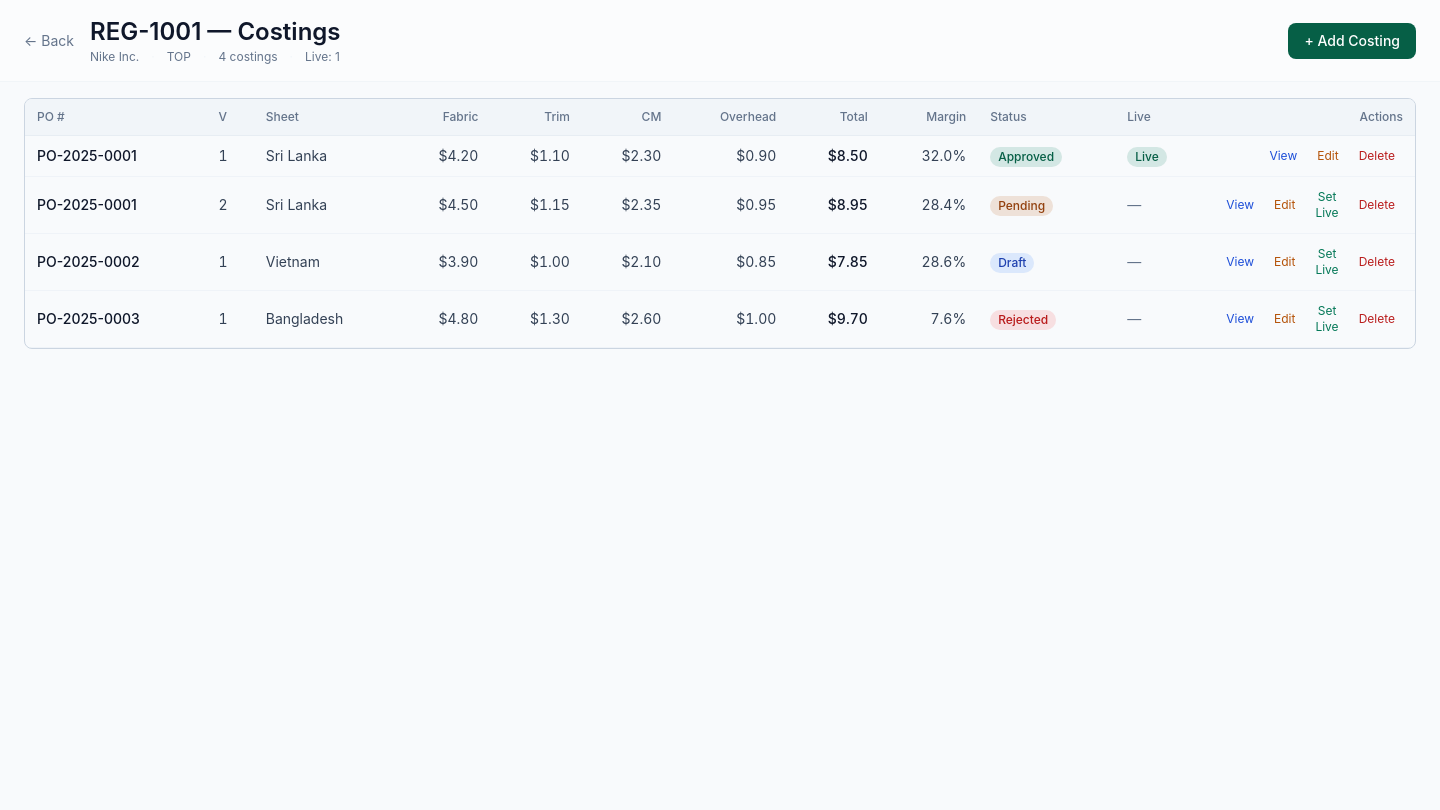
DesignCostingsPage › deletes a costing after confirmation
Check: the text "4 costings" is shown, box [218,49,278,65]
Click the button "Delete" in the row of "$4.20" at [1377, 156], box [1351,144,1403,168]
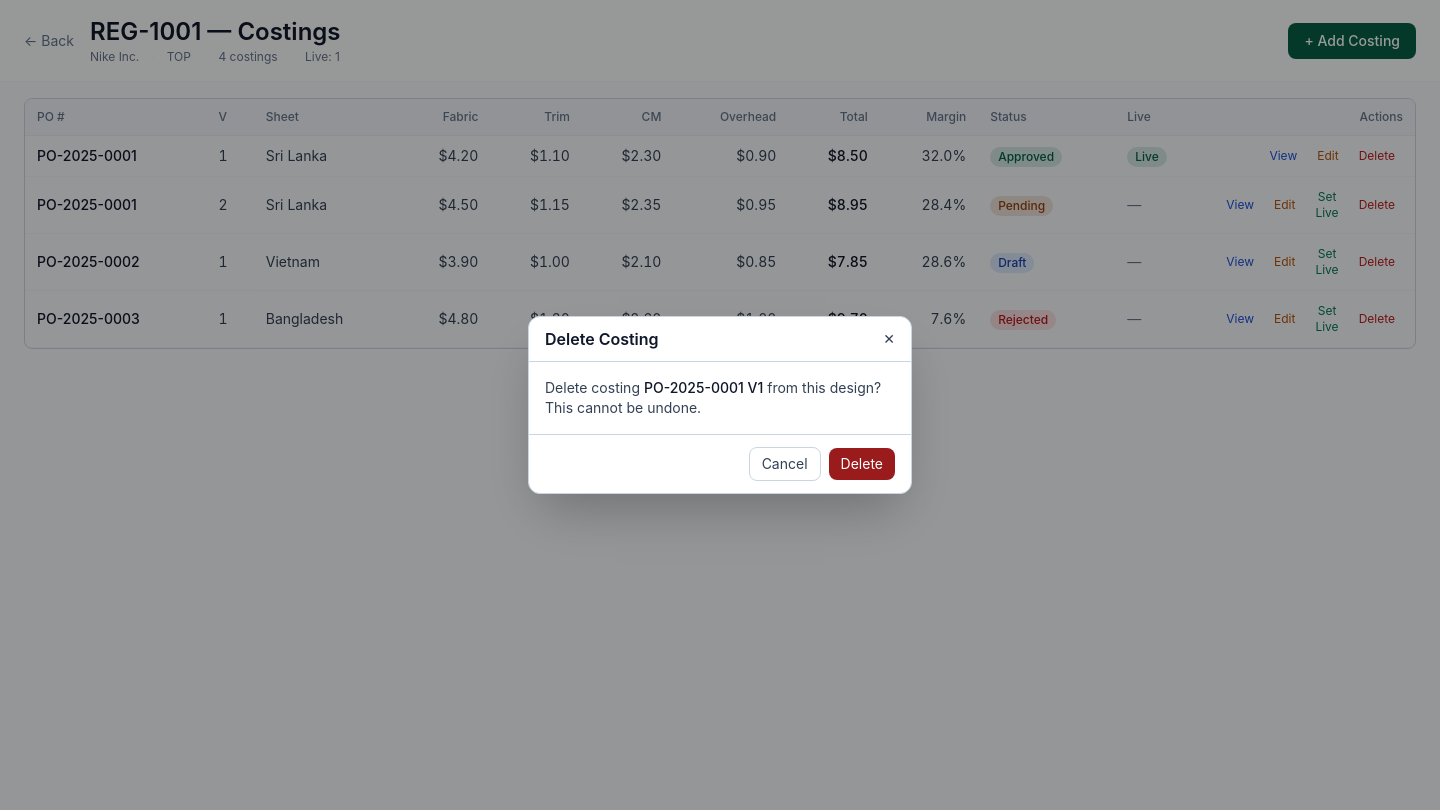
Check: the text "PO-2025-0001 V1" is shown, box [644,379,763,396]
Click the button "Delete" at [862, 464], box [829,448,895,480]
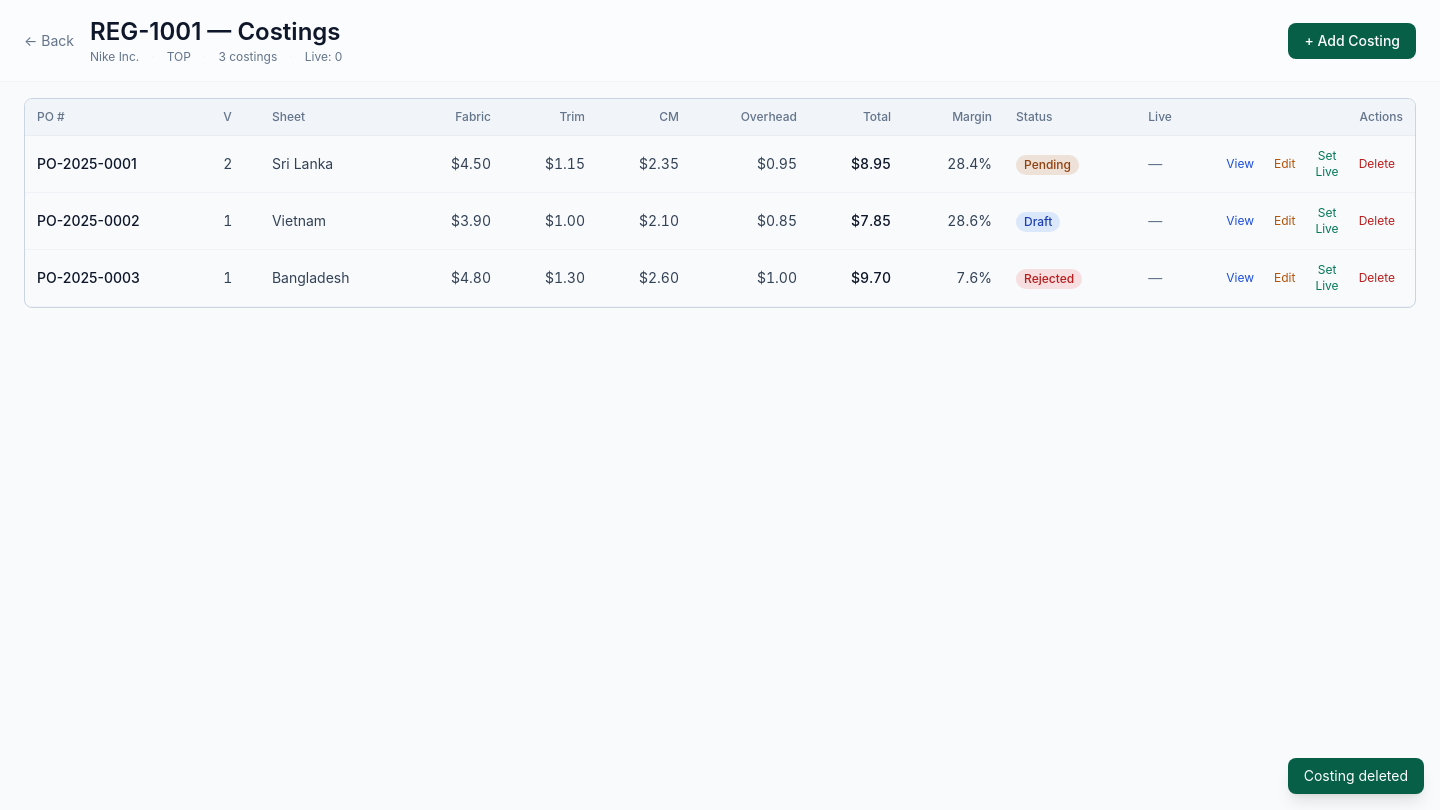
Check: the text "$8.50" is gone
Check: the number of buttons "View" is 3, box [1218,152,1262,176]; [1218,209,1262,233]; [1218,266,1262,290]
